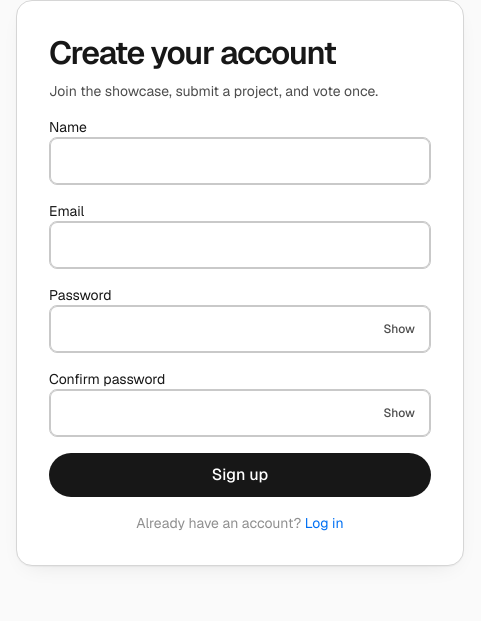
Test case: AuthForm › rejects mismatched signup passwords
In the field labelled "Name": [240, 161] box [49,137,431,185], type "Ada"
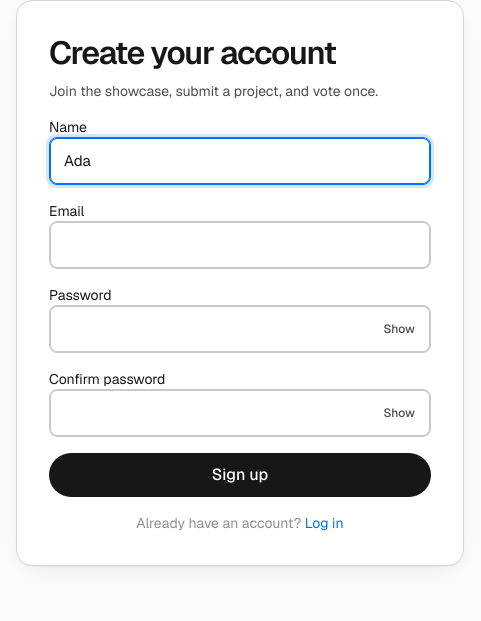
In the field labelled "Email": [240, 245] box [49,221,431,269], type "ada@example.com"
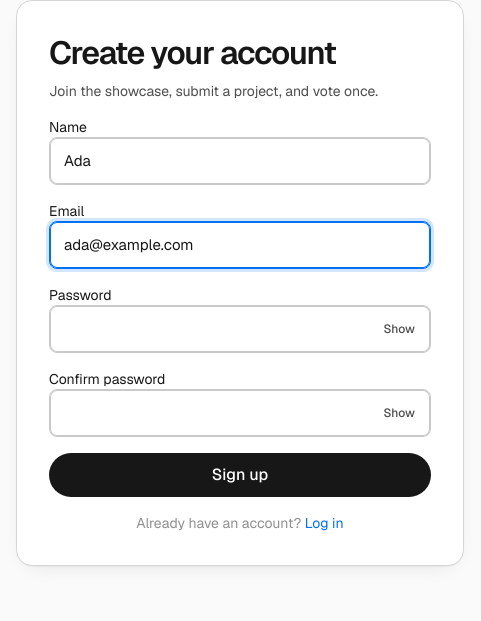
In the password field labelled "Password": [240, 329] box [49,305,431,353], type "secret1"
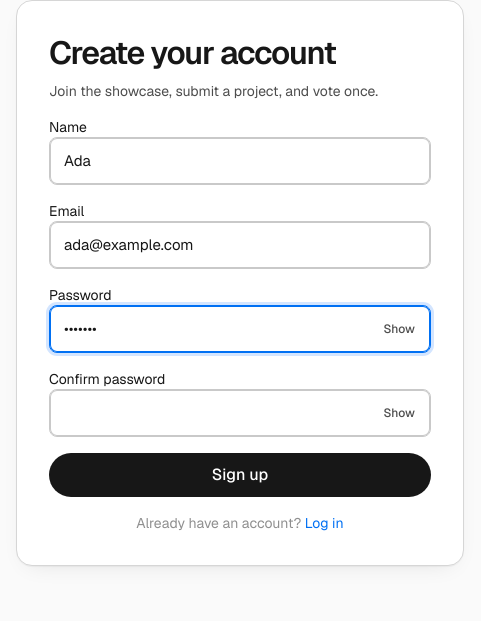
In the password field labelled "Confirm password": [240, 413] box [49,389,431,437], type "secret2"
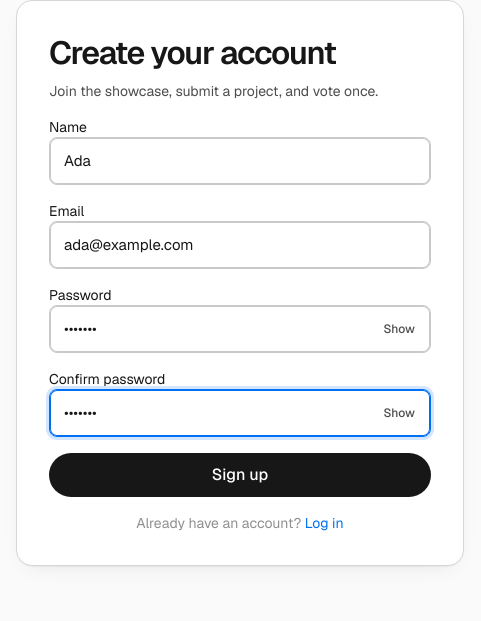
Click the button "Sign up": [240, 475] box [49,453,431,497]
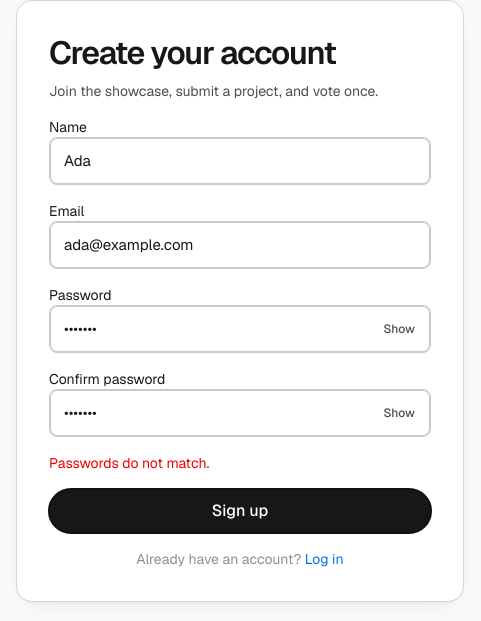
expect the message reads "Passwords do not match.": met, box [49,454,209,472]
